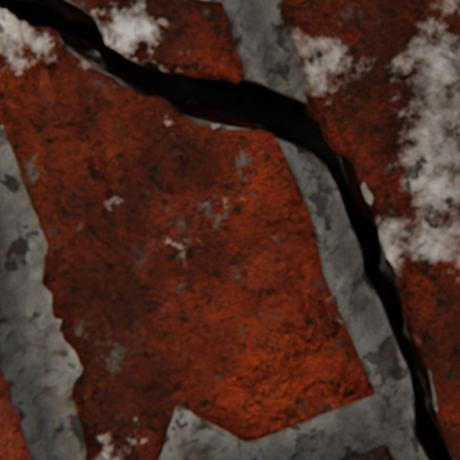brick: (0, 362, 33, 459), (335, 444, 394, 459)
broken_brick: (0, 8, 373, 459), (280, 0, 459, 459), (70, 0, 243, 83)
crack: (0, 0, 457, 459)
